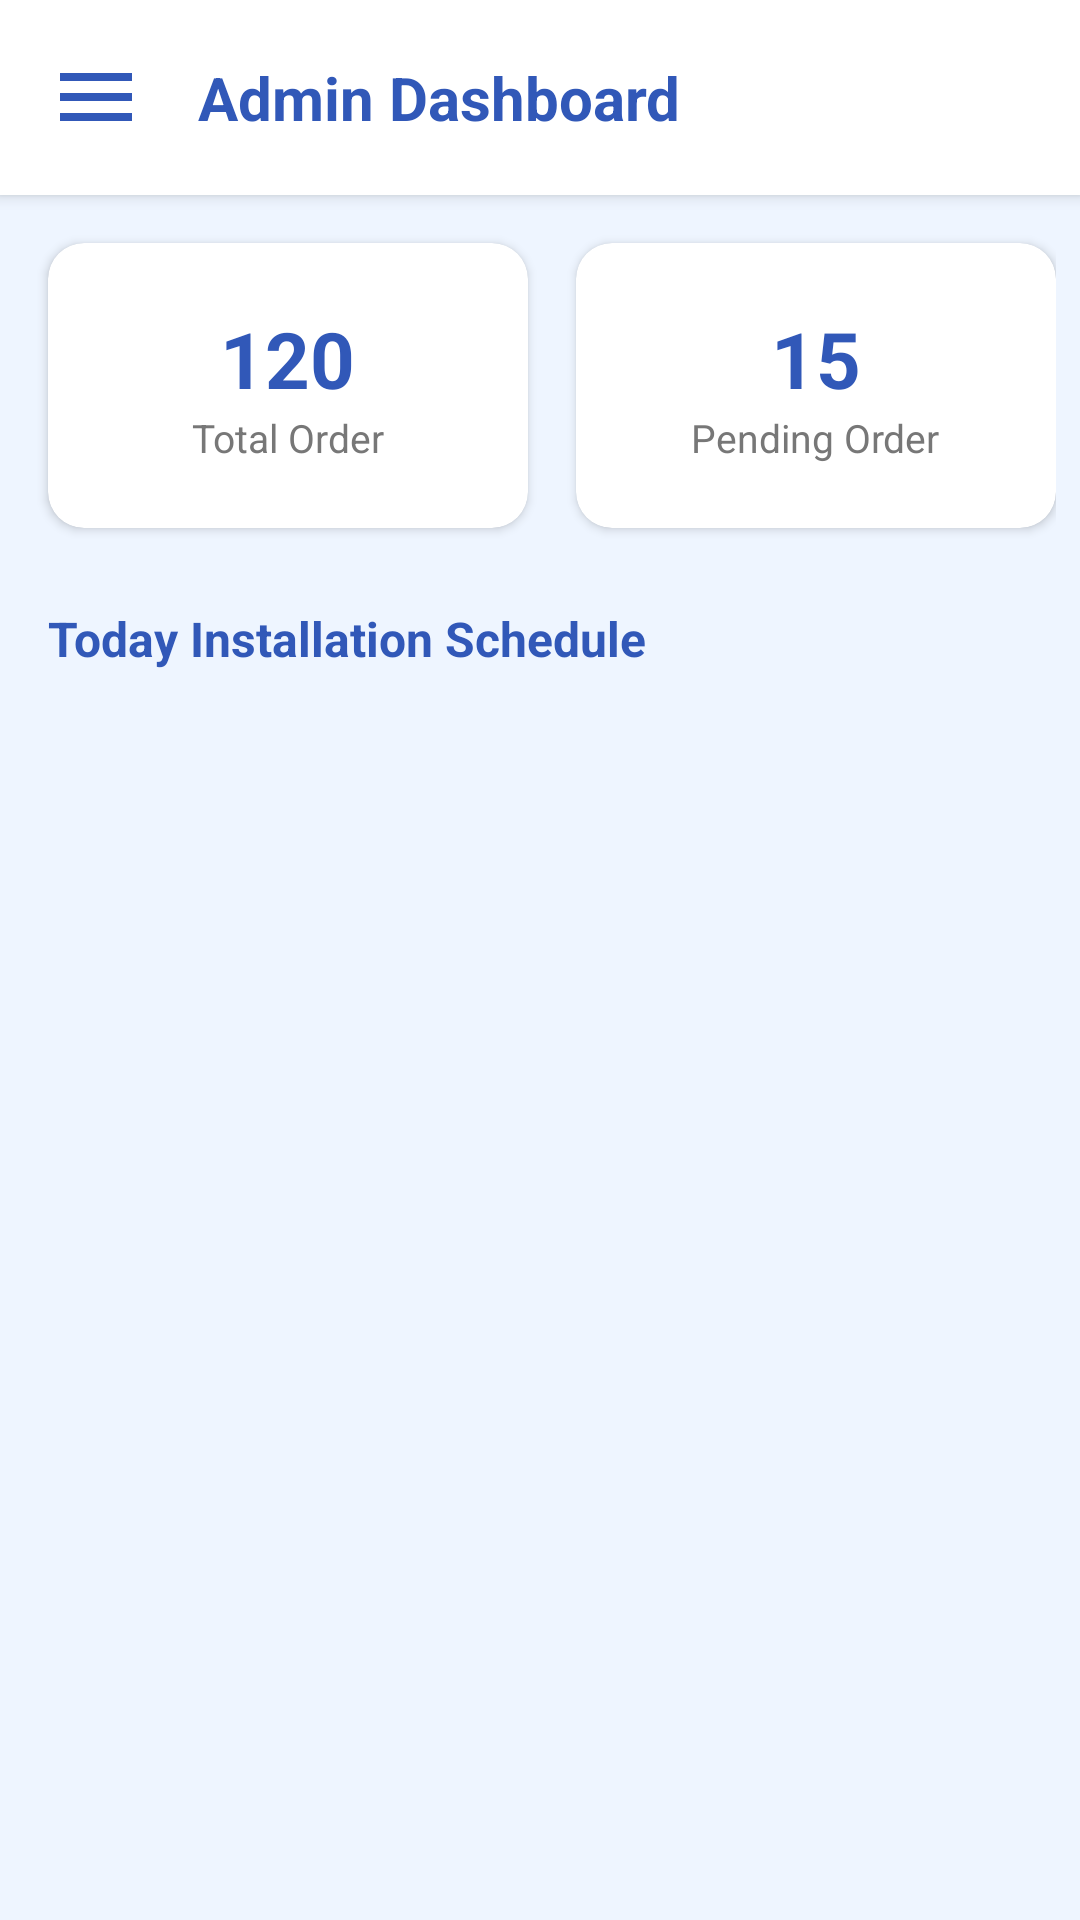

Locate icon controls on the screen. Image size 1080×1920, boxes as (x1, y1, x2, y2).
menu: (60, 73, 132, 121)
